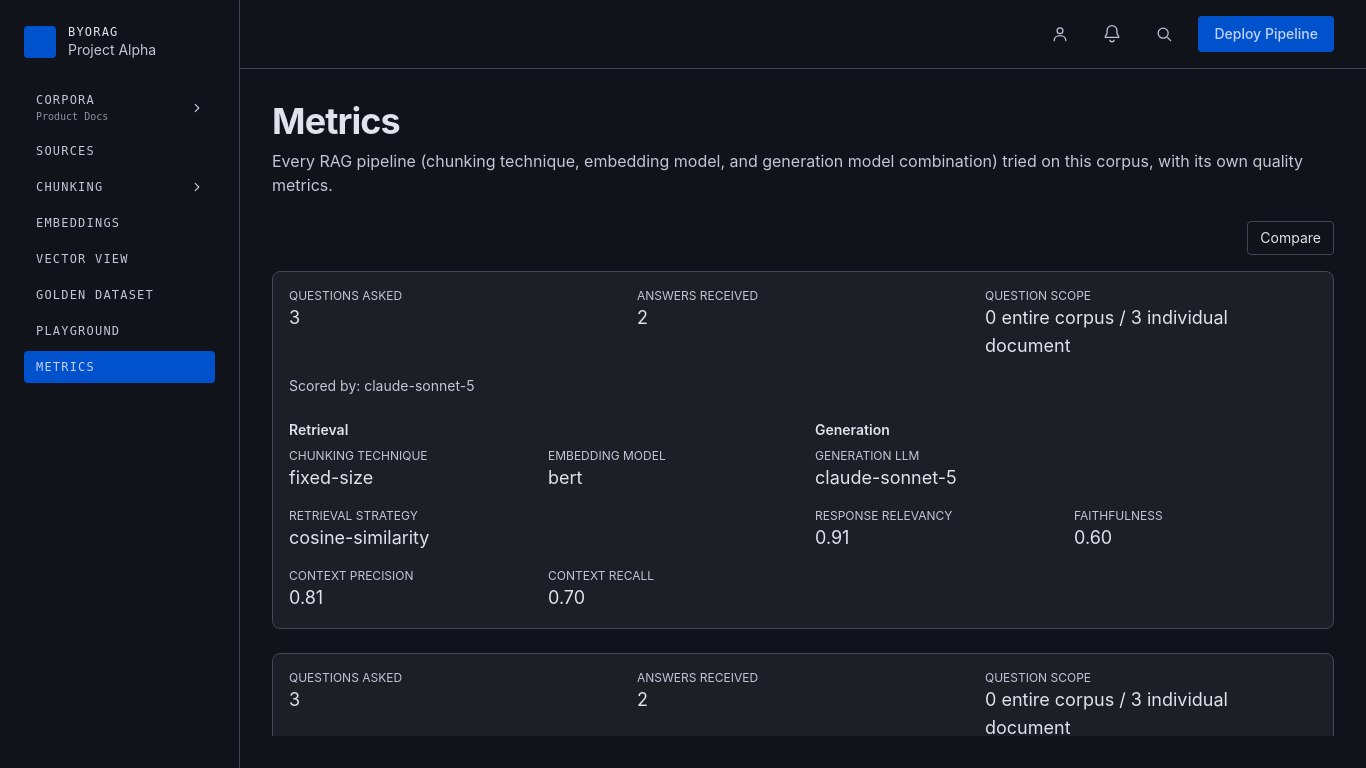
Test case: MetricsScreen — Compare stays as a secondary action alongside the list (FR-015) › opens the comparison modal with every pipeline when Compare is clicked
Click the button with test id "metrics-compare-button". click: (1291, 238)
box: [1247,221,1334,255]
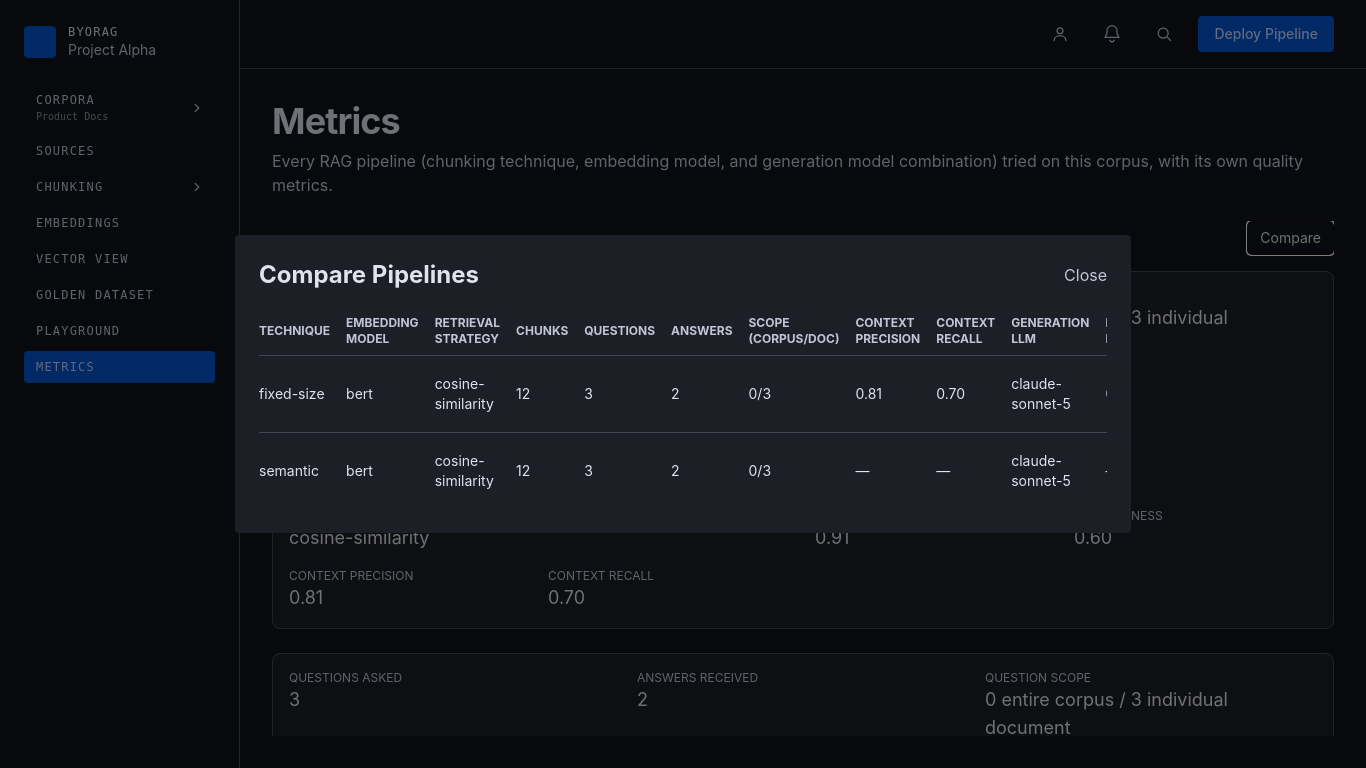
Expected: the dialog is shown, [235,235,1131,533]
Expected: the row with test id "comparison-row-fixed-size" is shown, [259,356,1107,432]
Expected: the row with test id "comparison-row-semantic" is shown, [259,432,1107,509]
